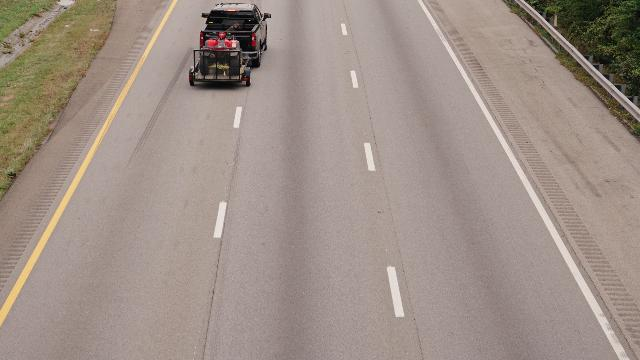pickup-truck: (187, 3, 274, 88)
